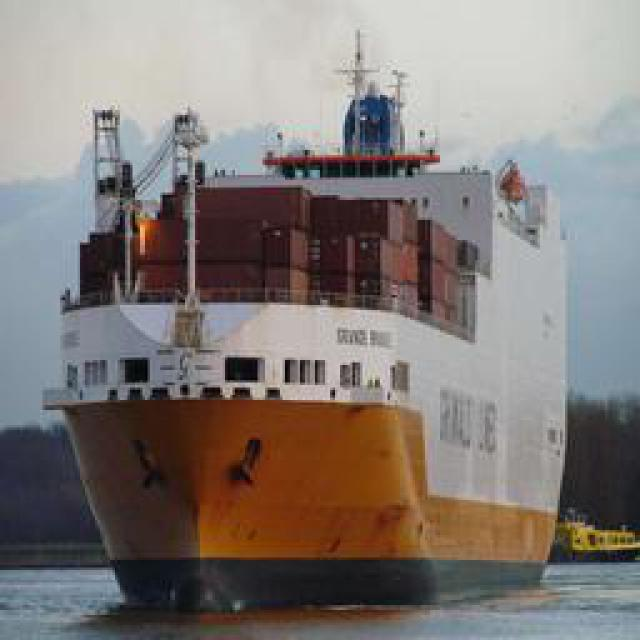Ship: (42, 66, 580, 601)
